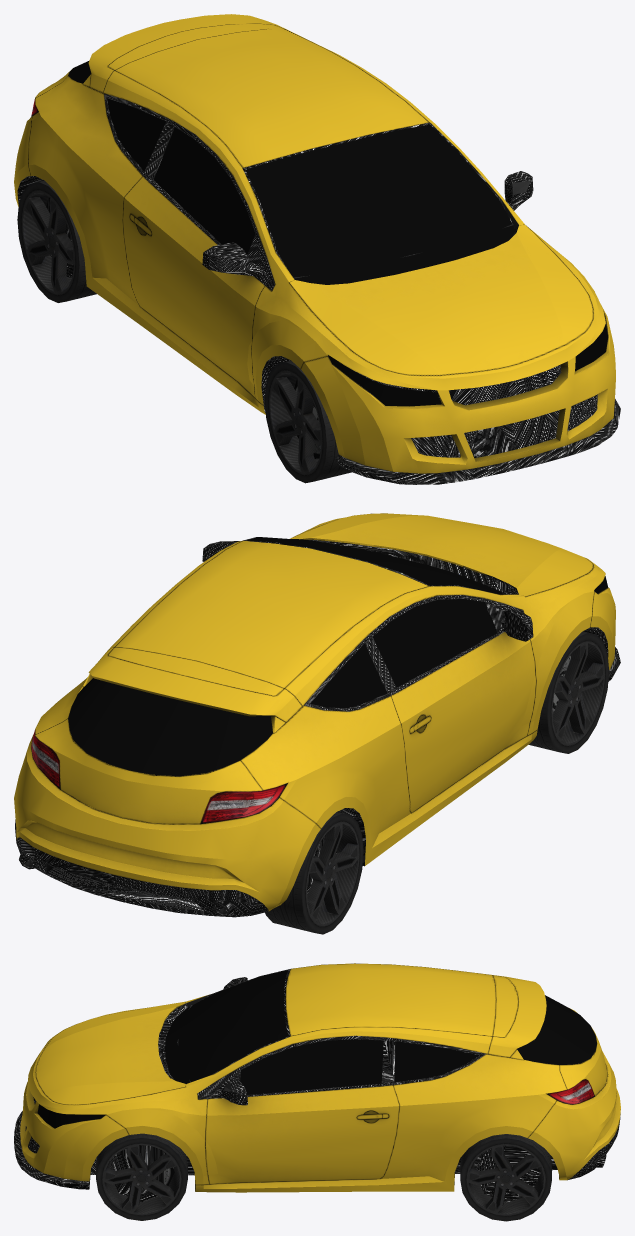
The model's file is Fantastic_Race_Car_48.glb.
3 views of the same model, one above another, from view 1: azimuth 30°, elevation 25°; view 2: azimuth 150°, elevation 25°; view 3: azimuth 270°, elevation 25° (orthographic). The views are drawn at different scales.
Parts seen in each view (by area): view 1: unnamed (×5); view 2: unnamed (×6); view 3: unnamed (×7).
Boxes of the visible parts, <box> form: unnamed (×5): <box>14,14,620,484</box>; unnamed (×6): <box>14,513,620,934</box>; unnamed (×7): <box>14,963,620,1221</box>.
Bounding box in the file's own units: 1.98 × 1.4 × 4.32.
Materials: 6 (5 with a texture image).
